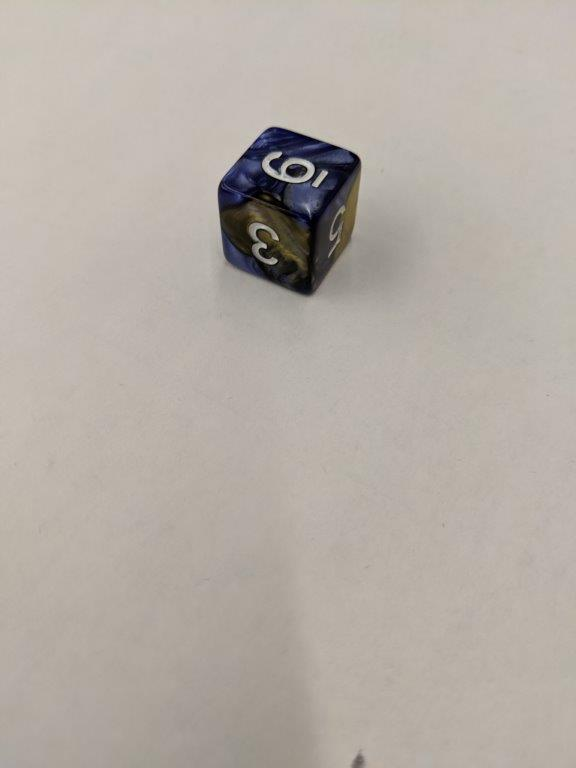d6-6: (220, 126, 366, 299)
